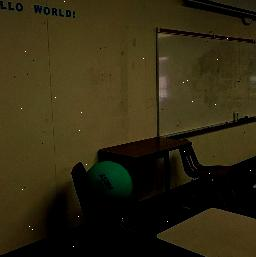algae: (84, 157, 134, 202)
